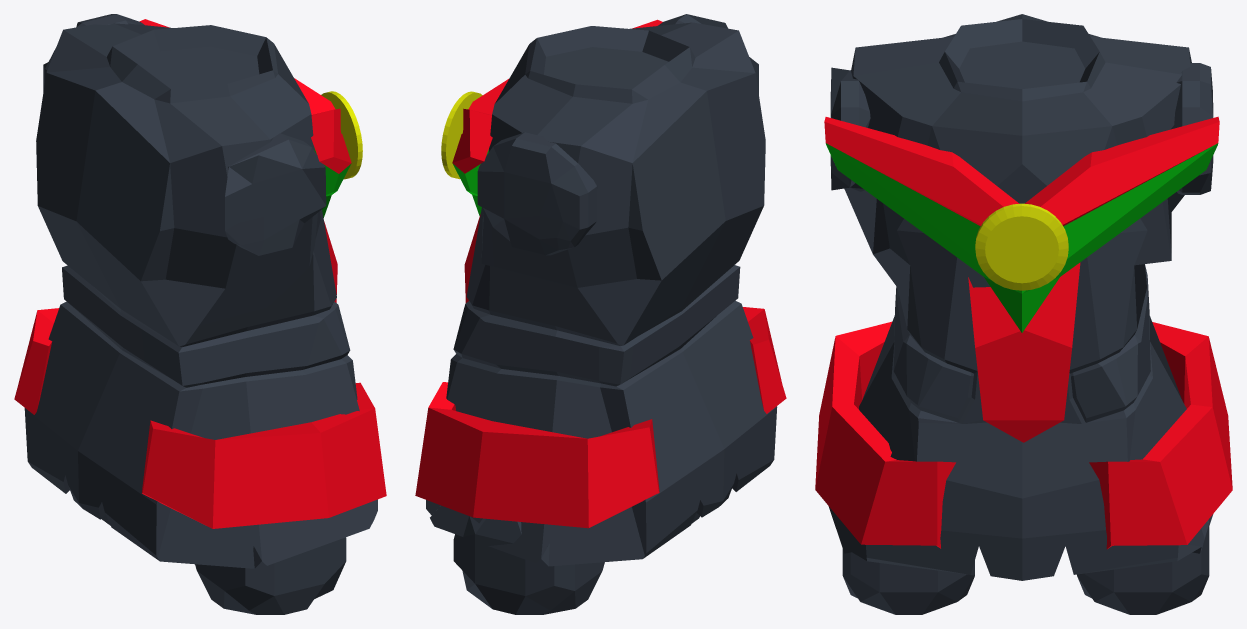
Rendered from body.fbx.
3 renders of one model, left to right at view 1: azimuth 30°, elevation 25°; view 2: azimuth 150°, elevation 25°; view 3: azimuth 270°, elevation 25°, orthographic. The views are drawn at different scales.
Parts seen in each view (by area): view 1: body, Cube.002, Cylinder.001, Sphere.002, Cube.001, Cylinder; view 2: body, Cube.002, Cylinder.001, Sphere, Cube.001, Cylinder; view 3: body, Cube.002, Cube.001, Cube, Cylinder, Sphere, Sphere.002, Cylinder.001.
Boxes of the visible parts, <box> form: body: <box>24,23,377,568</box>; Cube.002: <box>14,308,386,528</box>; Cylinder.001: <box>43,14,326,255</box>; Sphere.002: <box>195,537,346,614</box>; Cube.001: <box>139,19,351,217</box>; Cylinder: <box>321,91,362,179</box>; body: <box>426,22,777,566</box>; Cube.002: <box>415,307,786,528</box>; Cylinder.001: <box>477,14,758,255</box>; Sphere: <box>453,516,604,614</box>; Cube.001: <box>452,19,662,215</box>; Cylinder: <box>441,91,482,179</box>; body: <box>828,14,1213,580</box>; Cube.002: <box>815,321,1232,549</box>; Cube.001: <box>824,116,1219,332</box>; Cube: <box>968,262,1080,442</box>; Cylinder: <box>975,203,1068,290</box>; Sphere: <box>1077,519,1209,614</box>; Sphere.002: <box>842,549,974,614</box>; Cylinder.001: <box>830,63,1213,194</box>.
Bounding box in the file's own units: 92.26 × 170 × 119.
